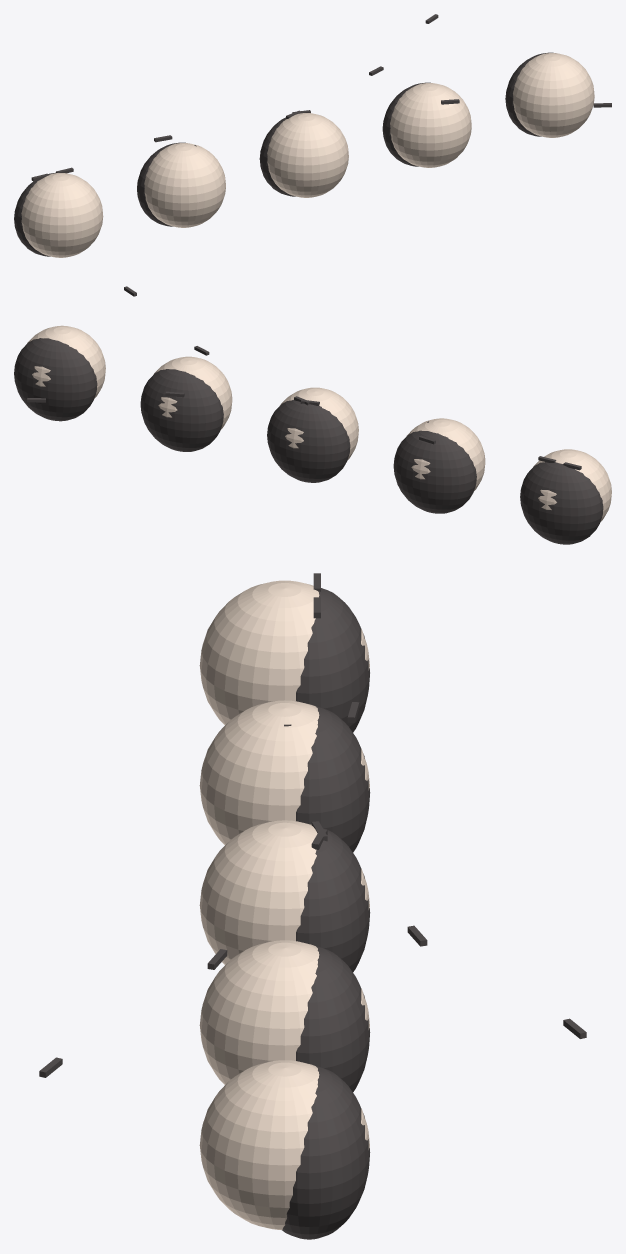
File: heads.glb
3 renders of one model, top to bottom at view 1: azimuth 30°, elevation 25°; view 2: azimuth 150°, elevation 25°; view 3: azimuth 270°, elevation 25°, orthographic. The views are drawn at different scales.
Visible parts, largest first — view 1: Head_Tired, Head_Worry, Head_Borrowed, Head_Neutral, Head_Shake, Hair_Borrowed, Hair_Tired, Hair_Shake, Hair_Neutral, Hair_Worry; view 2: Hair_Neutral, Hair_Worry, Hair_Tired, Hair_Borrowed, Hair_Shake, Head_Borrowed, Head_Shake, Head_Tired, Head_Worry, Head_Neutral; view 3: Head_Borrowed, Head_Shake, Head_Tired, Head_Neutral, Head_Worry, Hair_Borrowed, Hair_Shake, Hair_Tired, Hair_Worry, Hair_Neutral.
Part boxes in pixels (<box>): Head_Tired: <box>144,143,225,227</box>; Head_Worry: <box>267,113,348,197</box>; Head_Borrowed: <box>513,53,594,137</box>; Head_Neutral: <box>21,173,103,257</box>; Head_Shake: <box>390,83,471,167</box>; Hair_Borrowed: <box>505,52,553,136</box>; Hair_Tired: <box>137,142,185,226</box>; Hair_Shake: <box>382,82,430,166</box>; Hair_Neutral: <box>14,172,55,256</box>; Hair_Worry: <box>259,117,295,196</box>; Hair_Neutral: <box>520,462,603,544</box>; Hair_Worry: <box>267,400,350,482</box>; Hair_Tired: <box>393,430,476,513</box>; Hair_Borrowed: <box>14,338,97,421</box>; Hair_Shake: <box>140,369,223,451</box>; Head_Borrowed: <box>27,325,105,398</box>; Head_Shake: <box>153,356,232,429</box>; Head_Tired: <box>406,418,485,490</box>; Head_Worry: <box>280,387,358,460</box>; Head_Neutral: <box>533,449,611,521</box>; Head_Borrowed: <box>199,1060,369,1229</box>; Head_Shake: <box>199,940,369,1084</box>; Head_Tired: <box>199,700,369,844</box>; Head_Neutral: <box>199,580,369,724</box>; Head_Worry: <box>199,820,369,964</box>; Hair_Borrowed: <box>282,1066,370,1239</box>; Hair_Shake: <box>296,946,370,1091</box>; Hair_Tired: <box>296,706,370,852</box>; Hair_Worry: <box>296,828,370,972</box>; Hair_Neutral: <box>296,588,369,732</box>.
Size of the model in its own units: 3.23 by 0.445 by 1.35.
